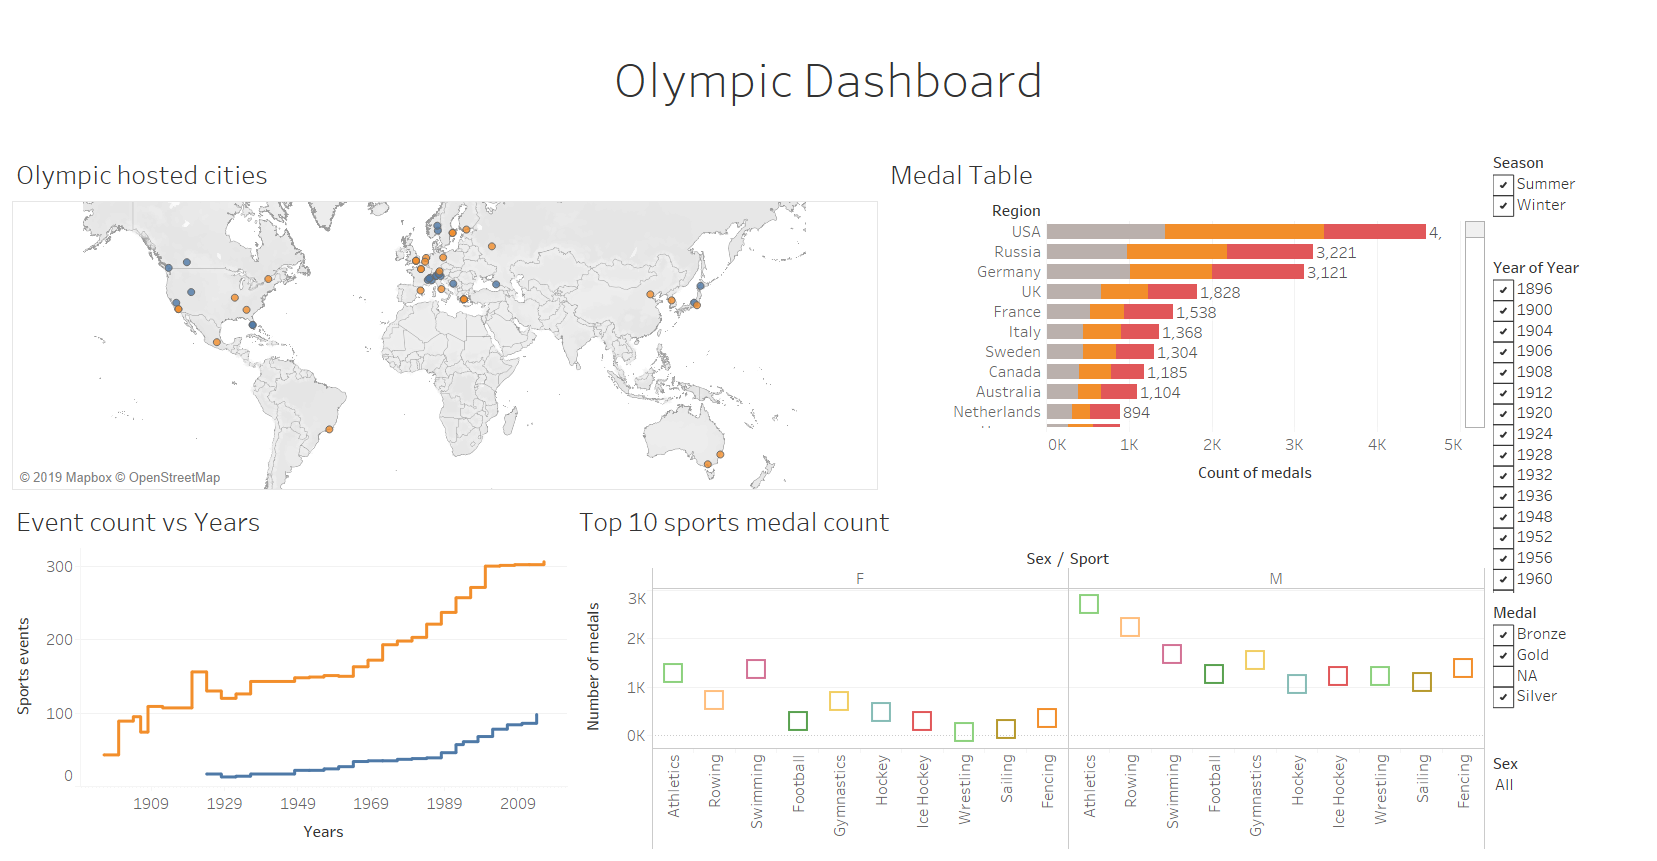

What the dashboard file says about the page in this screenshot:
{"tool":"tableau","page":{"name":"Olympic Dashboard","canvas":[1000,1000],"units":"permille","ordinal":0},"visuals":[{"type":"image","param":"C:/Users/Nihar/Downloads/Capture.PNG","box":[694,2.3,159.9,170.7]},{"type":"title","box":[4.8,9.3,990.3,128.9]},{"type":"image","param":"C:/Users/Nihar/Downloads/31tNlIYVx+L._AC_SS350_.jpg","box":[102,18.6,251.5,161.4]},{"type":"worksheet","title":"Olympic hosted cities","mark":"Multipolygon","box":[4.8,138.2,446.9,418.9]},{"type":"worksheet","title":"Teams with medals","mark":"Automatic","rows":["region"],"cols":["Name"],"box":[451.7,138.2,446.9,418.9]},{"type":"filter","title":"Event count vs years","param":"[federated.1ac8rjf1w901u31exdi441g56pyo].[none:Season:nk]","box":[898.6,138.2,96.6,124.3]},{"type":"filter","title":"Olympic hosted cities","param":"[federated.1ac8rjf1w901u31exdi441g56pyo].[yr:Year:ok]","box":[898.6,262.5,96.6,305.5]},{"type":"worksheet","title":"Event count vs years","mark":"Automatic","rows":["Event"],"cols":["Year"],"box":[4.8,557.1,447.2,433.6]},{"type":"worksheet","title":"Sport with most medals","mark":"Shape","rows":["Name"],"cols":["Sex","Sport"],"box":[452,557.1,446.6,433.6]},{"type":"filter","title":"Event count vs years","param":"[federated.1ac8rjf1w901u31exdi441g56pyo].[none:Medal:nk]","box":[898.6,567.9,96.6,177.7]},{"type":"filter","title":"Sport with most medals","param":"[federated.1ac8rjf1w901u31exdi441g56pyo].[none:Sex:nk]","box":[898.6,745.6,96.6,124.3]},{"type":"parameter","param":"[Parameters].[Age Parameter]","box":[898.6,869.9,96.6,65]}]}

Visuals, with their boxes on the dashboard's canvas, which has no fixed pixel size, in thousandths of its width and height (x1, y1, x2, y2). These are canvas units, not pixel positions in the 1657x861 screenshot, which may show the page scaled, cropped or inside an application window:
image: pyautogui.locateOnScreen(694, 2, 854, 173)
title: pyautogui.locateOnScreen(5, 9, 995, 138)
image: pyautogui.locateOnScreen(102, 19, 354, 180)
"Olympic hosted cities" worksheet (Multipolygon marks): pyautogui.locateOnScreen(5, 138, 452, 557)
"Teams with medals" worksheet: pyautogui.locateOnScreen(452, 138, 899, 557)
"Event count vs years" filter: pyautogui.locateOnScreen(899, 138, 995, 262)
"Olympic hosted cities" filter: pyautogui.locateOnScreen(899, 262, 995, 568)
"Event count vs years" worksheet: pyautogui.locateOnScreen(5, 557, 452, 991)
"Sport with most medals" worksheet (Shape marks): pyautogui.locateOnScreen(452, 557, 899, 991)
"Event count vs years" filter: pyautogui.locateOnScreen(899, 568, 995, 746)
"Sport with most medals" filter: pyautogui.locateOnScreen(899, 746, 995, 870)
parameter: pyautogui.locateOnScreen(899, 870, 995, 935)
